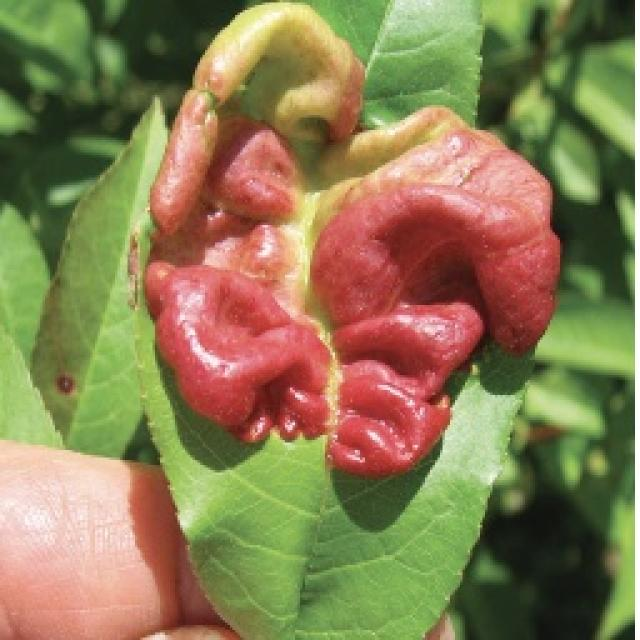peach_leaf_curl: (140, 0, 562, 480)
